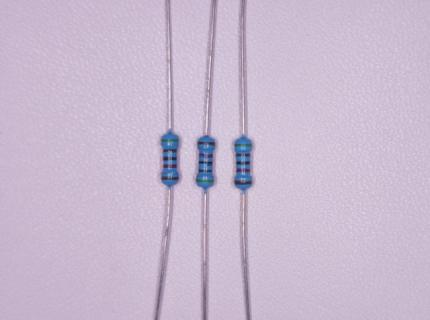Black band: (199, 161, 212, 166), (163, 157, 177, 161), (237, 161, 250, 165)
Brown band: (235, 181, 251, 185), (163, 149, 177, 153), (161, 177, 178, 180), (198, 142, 215, 145), (199, 169, 212, 172), (236, 154, 250, 156)
Green band: (161, 139, 178, 143), (197, 180, 213, 182), (235, 144, 251, 146)
Red band: (200, 154, 213, 158), (237, 169, 250, 172), (164, 165, 176, 168)
